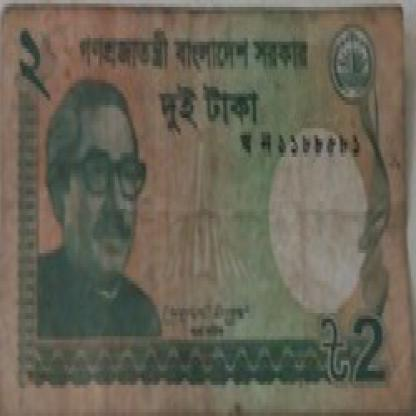two taka: (344, 319, 402, 399), (12, 31, 60, 118)
